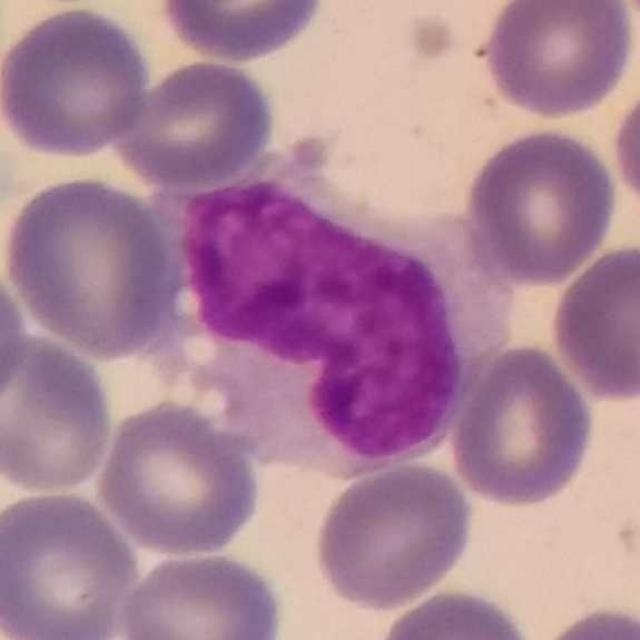Monocyte: (144, 161, 514, 466)
RBC: (0, 170, 186, 361), (93, 396, 265, 559), (446, 339, 599, 511), (310, 458, 478, 614), (462, 122, 620, 286), (1, 3, 155, 162), (108, 57, 280, 189), (0, 486, 144, 640), (0, 328, 118, 496), (475, 0, 638, 120), (115, 545, 287, 640), (546, 239, 640, 405), (154, 0, 330, 65), (372, 584, 538, 640), (0, 260, 31, 418), (609, 75, 640, 222), (532, 601, 640, 640), (606, 1, 640, 32)
